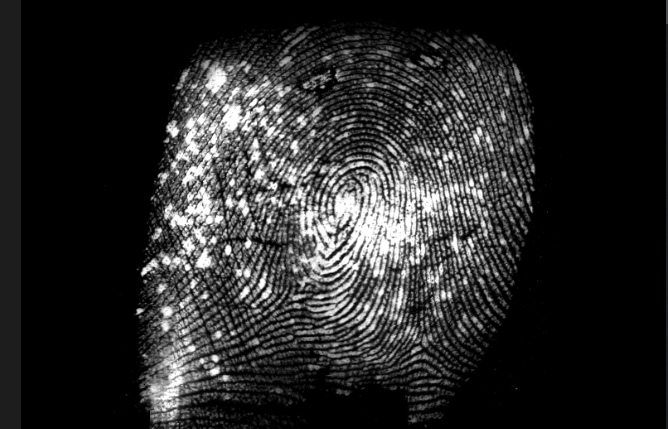deltas: (397, 323, 442, 368), (270, 270, 313, 314)
nucleo: (322, 178, 364, 221)
